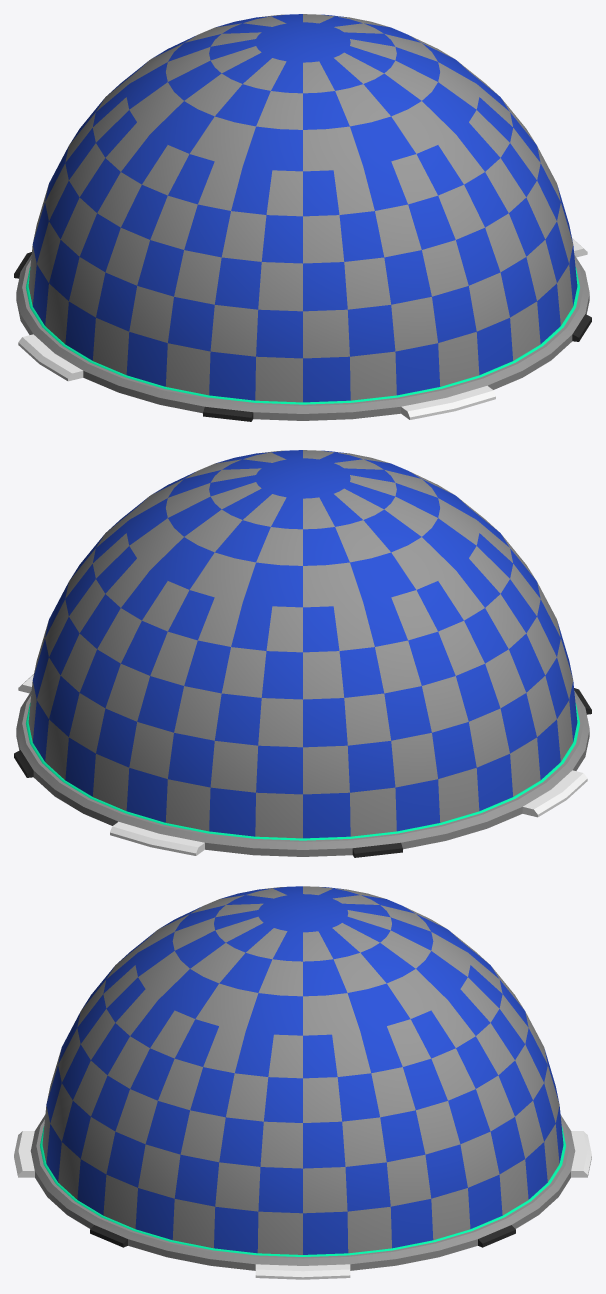
Rendered from ForceDome.FBX.
3 views of the same model, one above another, from view 1: azimuth 30°, elevation 25°; view 2: azimuth 150°, elevation 25°; view 3: azimuth 270°, elevation 25° (orthographic). The views are drawn at different scales.
Visible parts, largest first — view 1: Dome, Ring; view 2: Dome, Ring; view 3: Dome, Ring.
Boxes of the visible parts, x1,y1,x2,y2 form: Dome: [28, 14, 577, 402]; Ring: [14, 238, 591, 421]; Dome: [28, 450, 577, 838]; Ring: [14, 674, 591, 857]; Dome: [42, 886, 563, 1254]; Ring: [14, 1115, 591, 1279].
Size of the model in its own units: 446 by 211 by 446.
